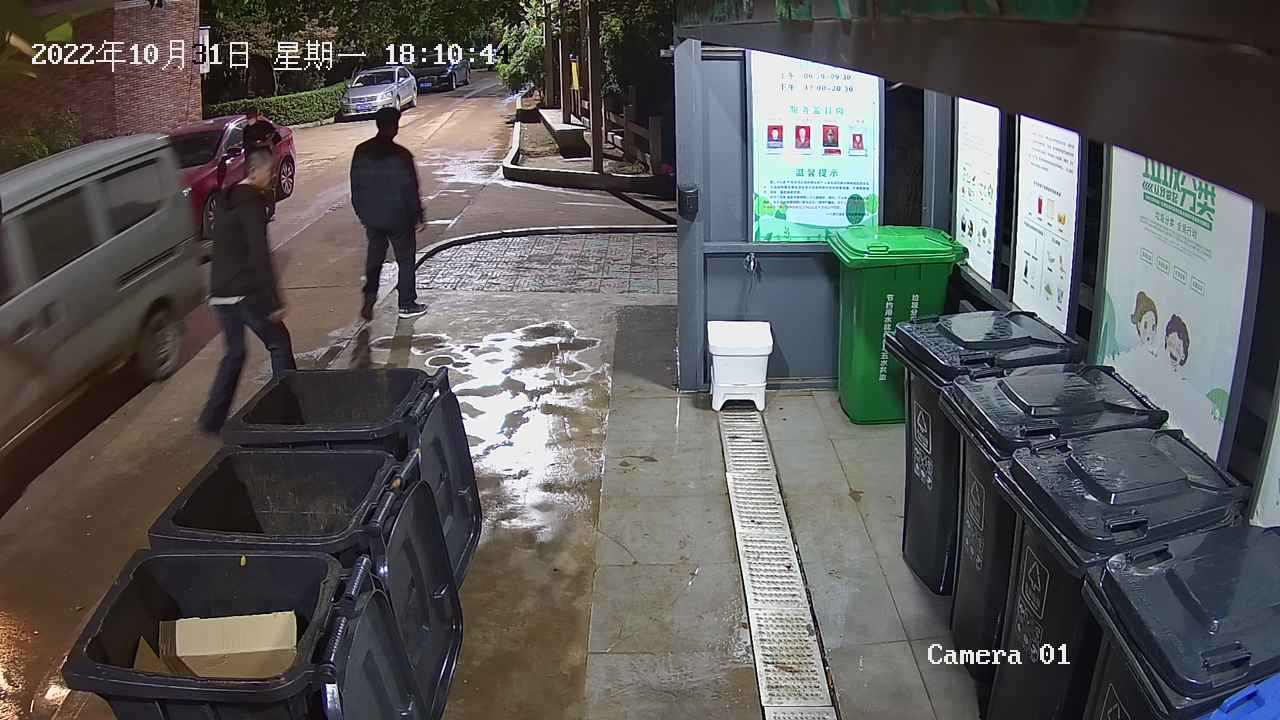person: (192, 145, 296, 439), (347, 106, 430, 322)
